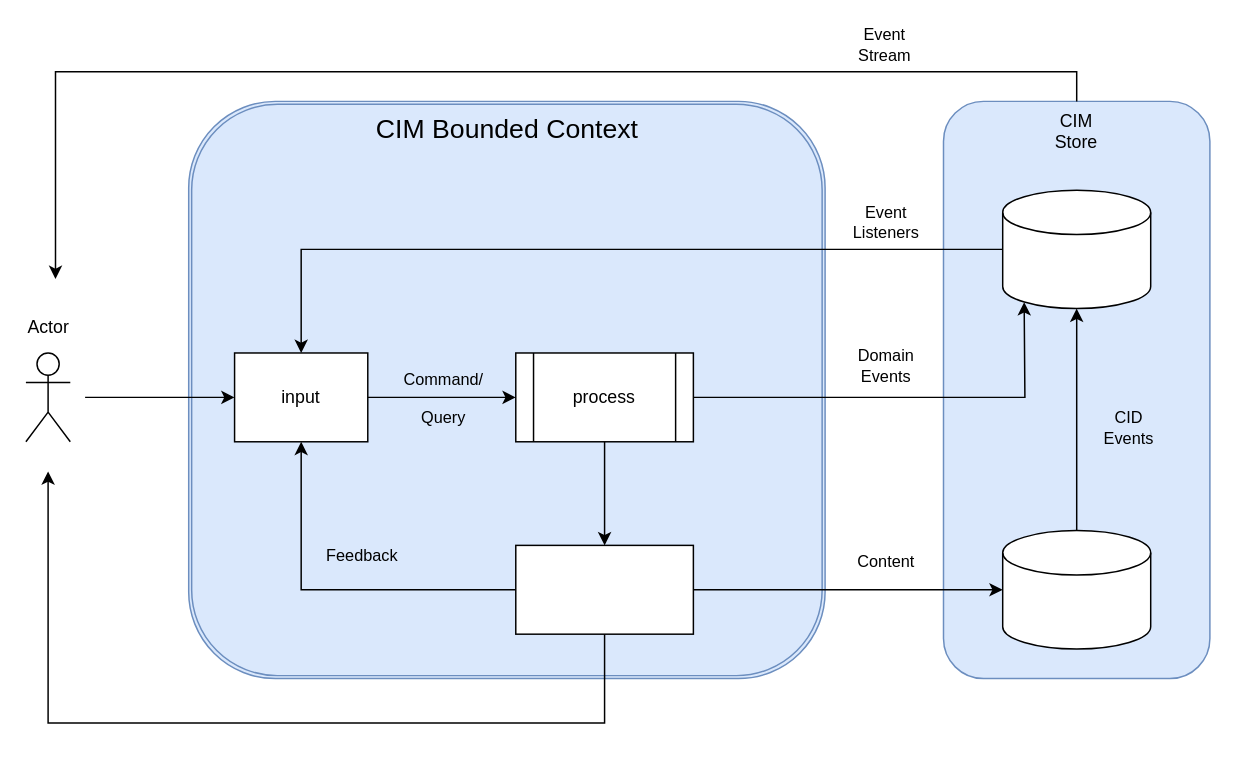
Some shapes in this 1236 by 761 pixel diagram are drawn without their labels. The shapes that lost their labels are listed below. From the top down, each one's centre as x and y in pixels, then its label:
At point (1076, 249): "Distributed Event Store".
At point (603, 589): "output".
At point (1076, 589): "Distributed Object Store".
